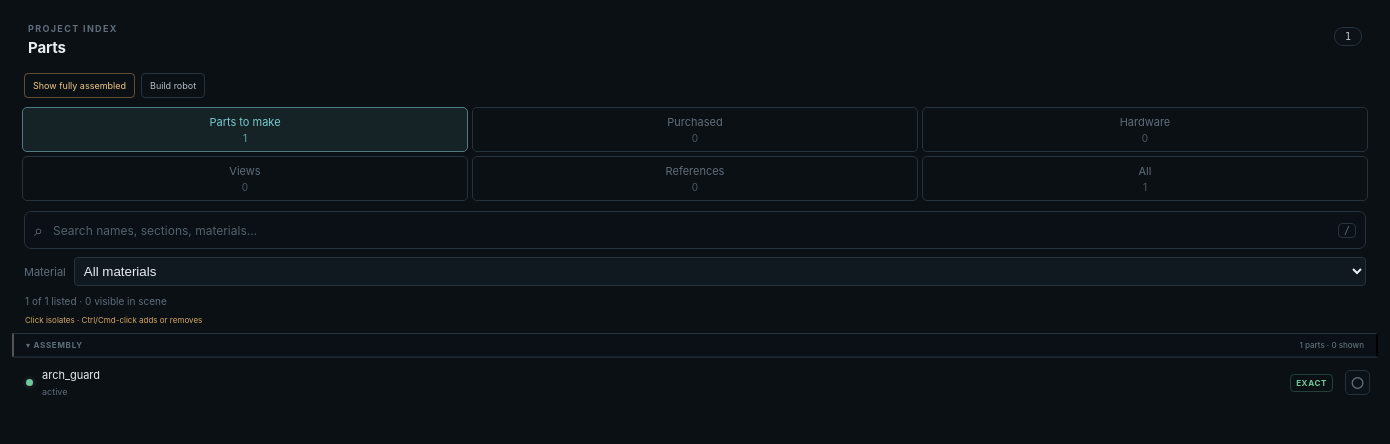
PartInventoryDock refresh › retains the part and reports a deletion failure
Right-click the option "arch_guard active Exact" at coordinates (71, 375), box [14,358,1345,407]
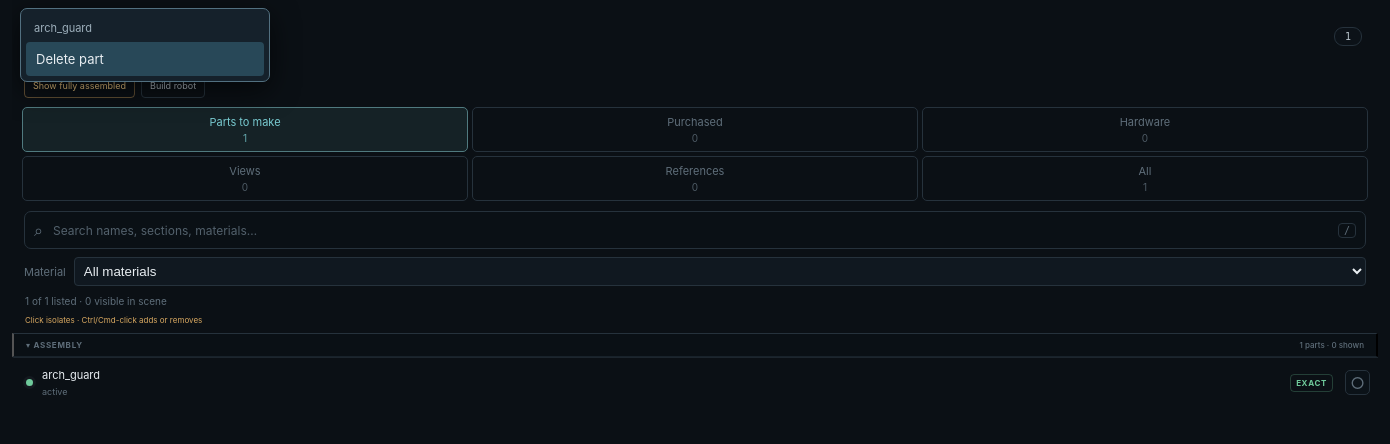
Click the menu item "Delete part" at coordinates (145, 59), box [26,42,264,76]
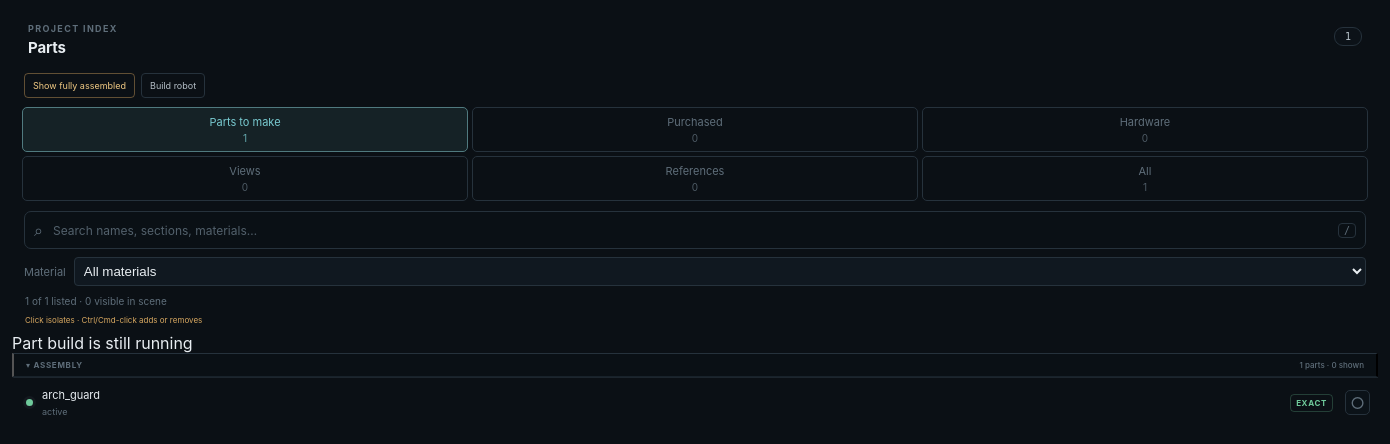
Expected: the option "arch_guard active Exact" is shown, [14,378,1345,427]
Result: the message reads "Part build is still running" at [12,333,193,353]
